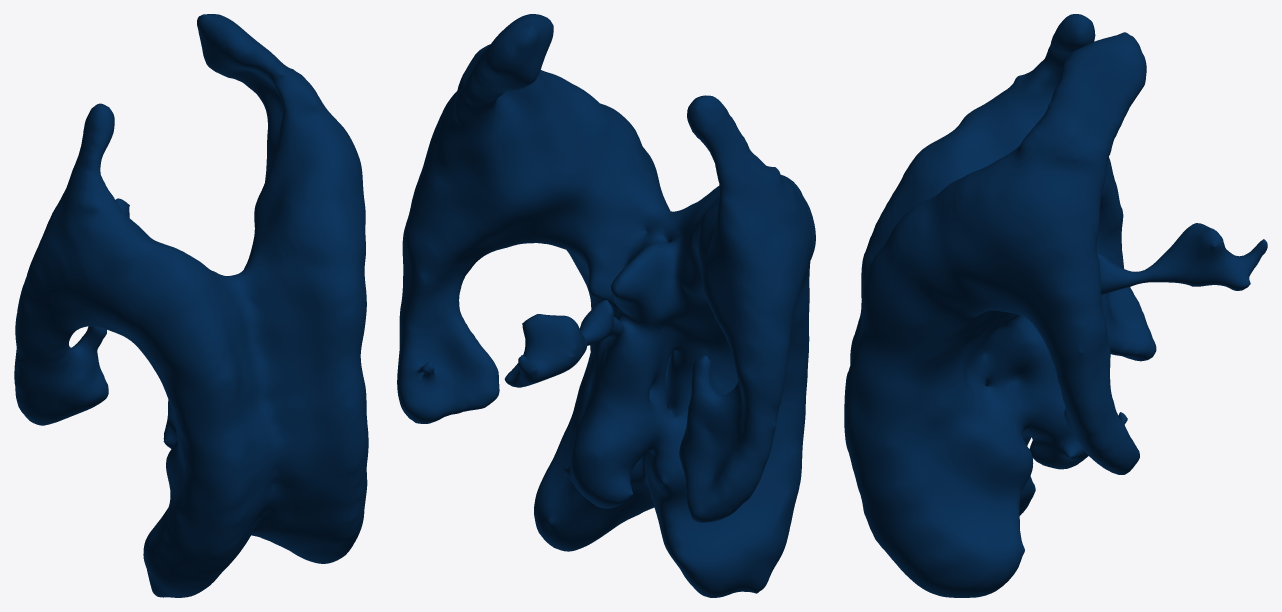
File: Ventricle.obj
The picture shows the model from 3 angles, left to right: view 1: azimuth 30°, elevation 25°; view 2: azimuth 150°, elevation 25°; view 3: azimuth 270°, elevation 25°; orthographic projection. The views are drawn at different scales.
Visible parts, largest first — view 1: grp1; view 2: grp1; view 3: grp1.
Boxes of the visible parts, box(x1,y1,x2,y2) form: grp1: box(14, 14, 368, 597); grp1: box(397, 14, 815, 597); grp1: box(844, 14, 1267, 597).
Bounding box in the file's own units: 79.48 × 117 × 81.81.
